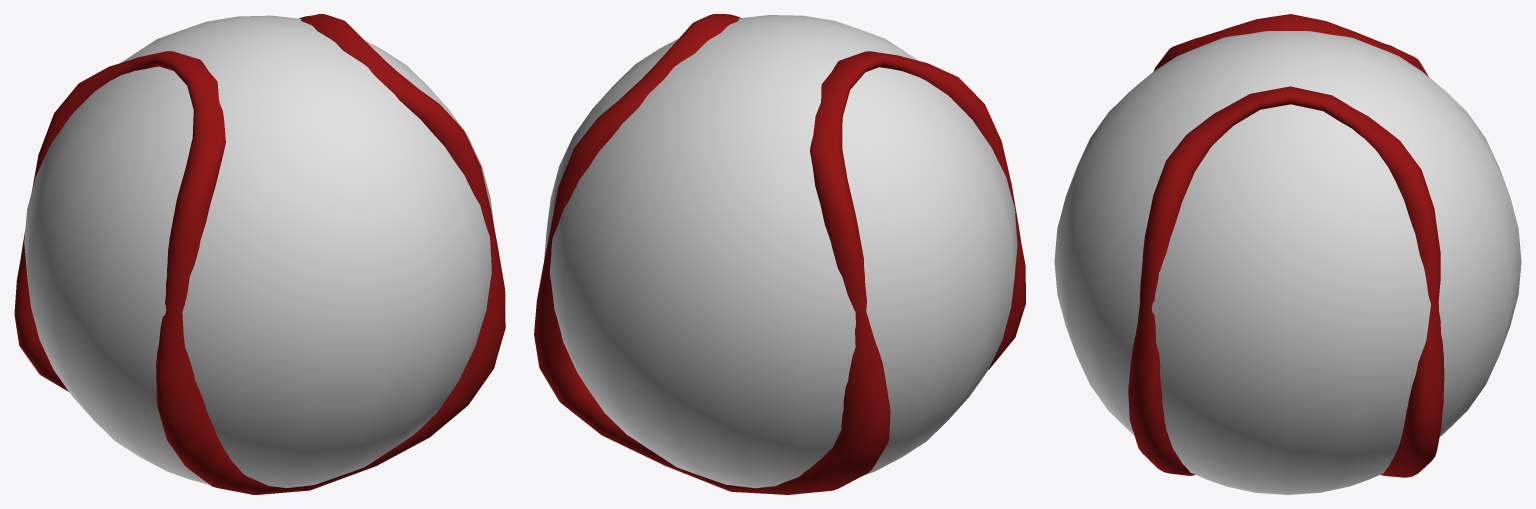
The model's file is item_ball.obj.
The picture shows the model from 3 angles, left to right: view 1: azimuth 30°, elevation 25°; view 2: azimuth 150°, elevation 25°; view 3: azimuth 270°, elevation 25°; orthographic projection. The views are drawn at different scales.
Parts seen in each view (by area): view 1: pSphere2, pTorus2; view 2: pSphere2, pTorus2; view 3: pSphere2, pTorus2.
Part boxes in pixels (x1,y1,x2,y2): pSphere2: (24, 15, 493, 487); pTorus2: (14, 14, 505, 494); pSphere2: (544, 15, 1017, 488); pTorus2: (534, 14, 1025, 494); pSphere2: (1054, 31, 1521, 494); pTorus2: (1128, 14, 1444, 477).
Size of the model in its own units: 1.22 by 1.22 by 1.22.
